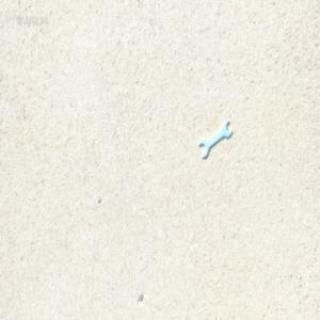Wrenchtrack_idkeyframe: (198, 120, 231, 158)
